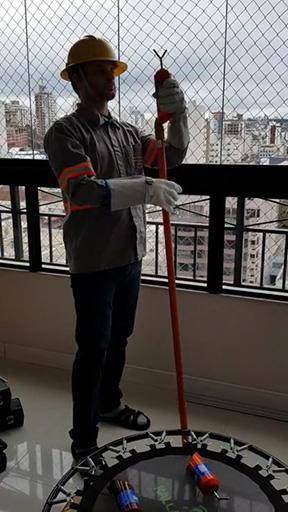Detector_Tensao_Contato: (188, 453, 226, 505), (151, 48, 175, 123)
Vara_Manobra: (152, 120, 190, 447)
